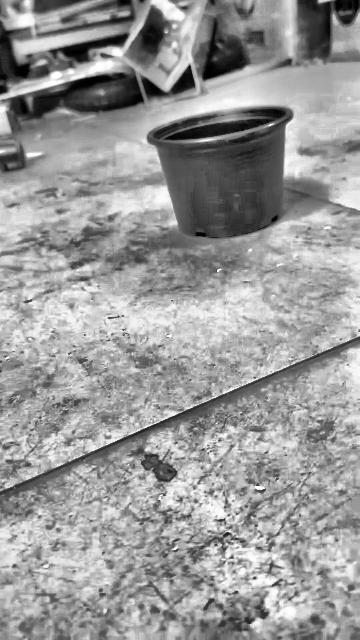pot: (147, 105, 293, 238)
